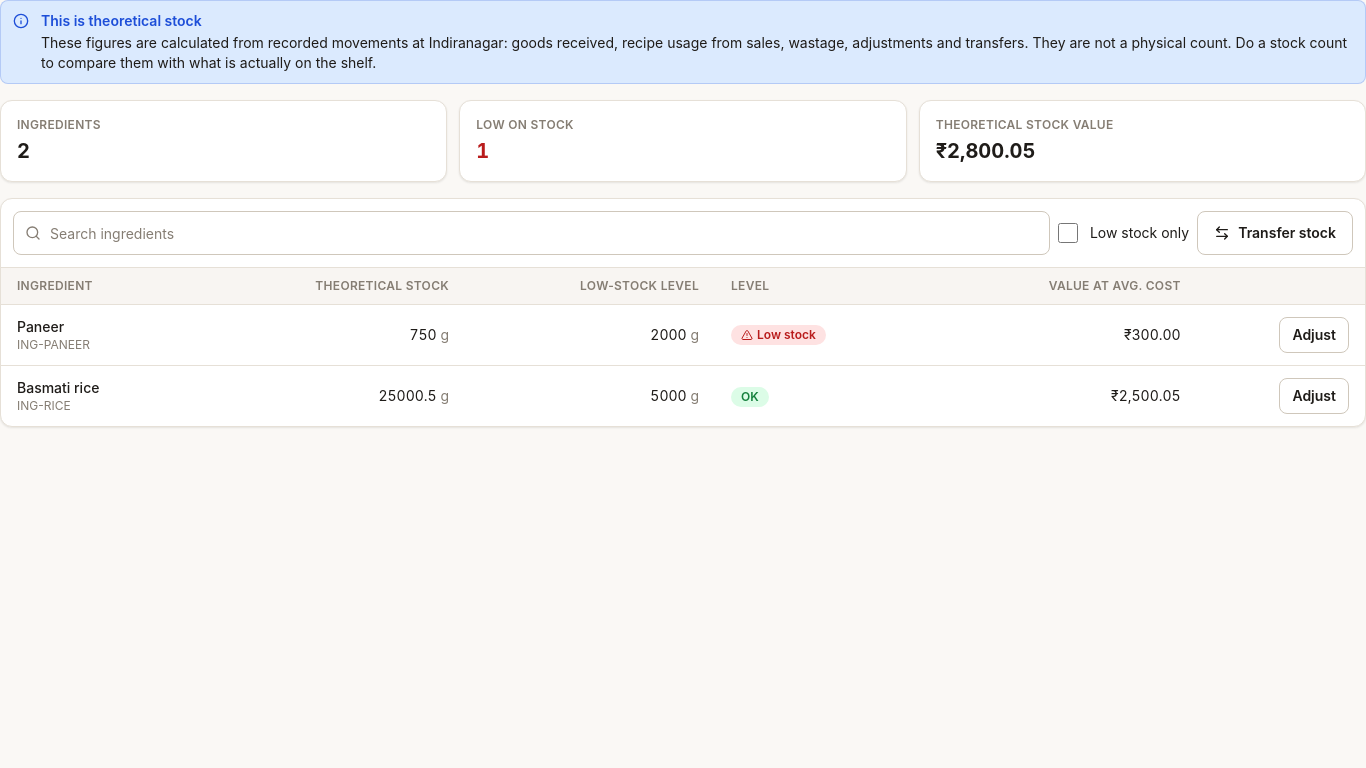
StockTab › offers adjust and transfer with inventory.manage, with units of the ingredient’s dimension only
Check: the text "Paneer" is shown, box [17,318,64,335]
Check: the button "Transfer stock" is shown, box [1197,211,1353,255]
Click the button with aria-label "Adjust Paneer" at (1314, 335), box [1279,317,1349,353]
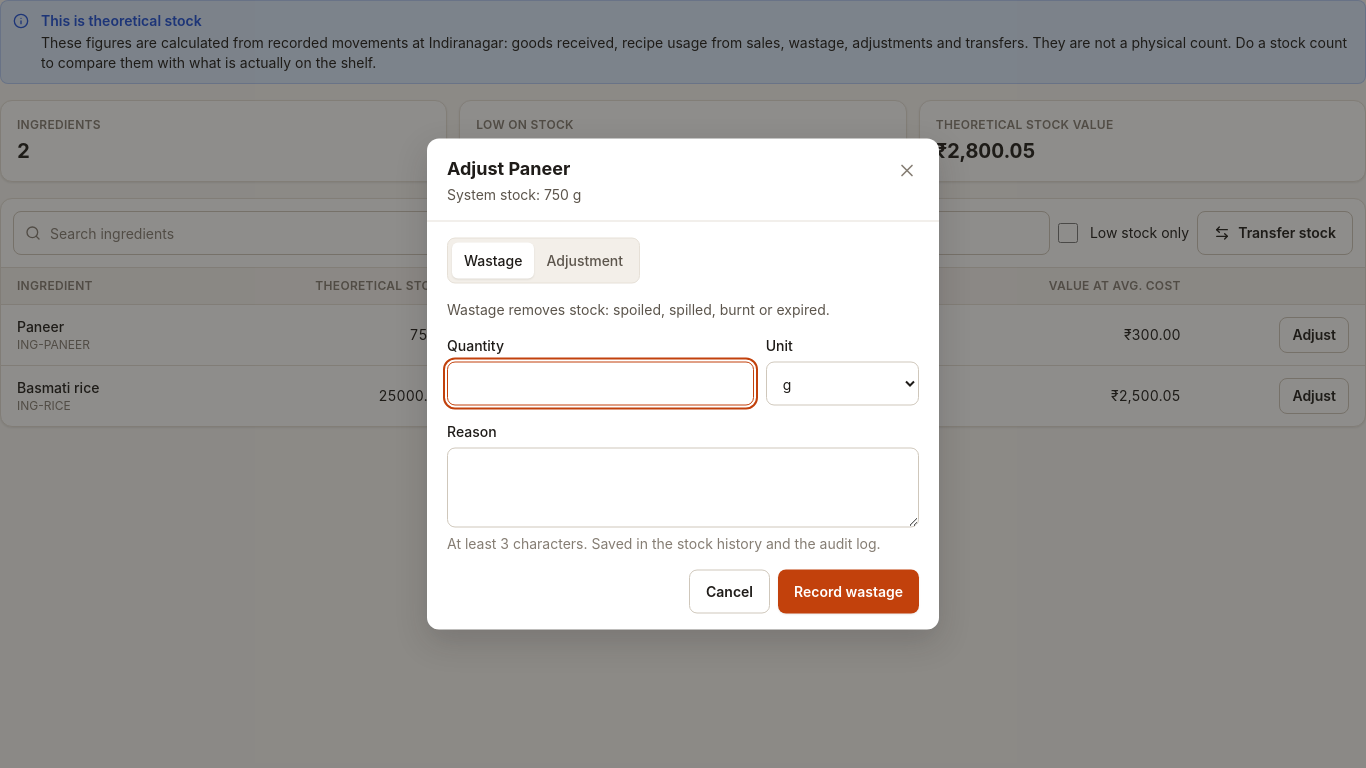
A reason is required: nothing is sent without one.
Type "0.5" into the field labelled "Quantity" at (600, 384), box [447,362,754,406]
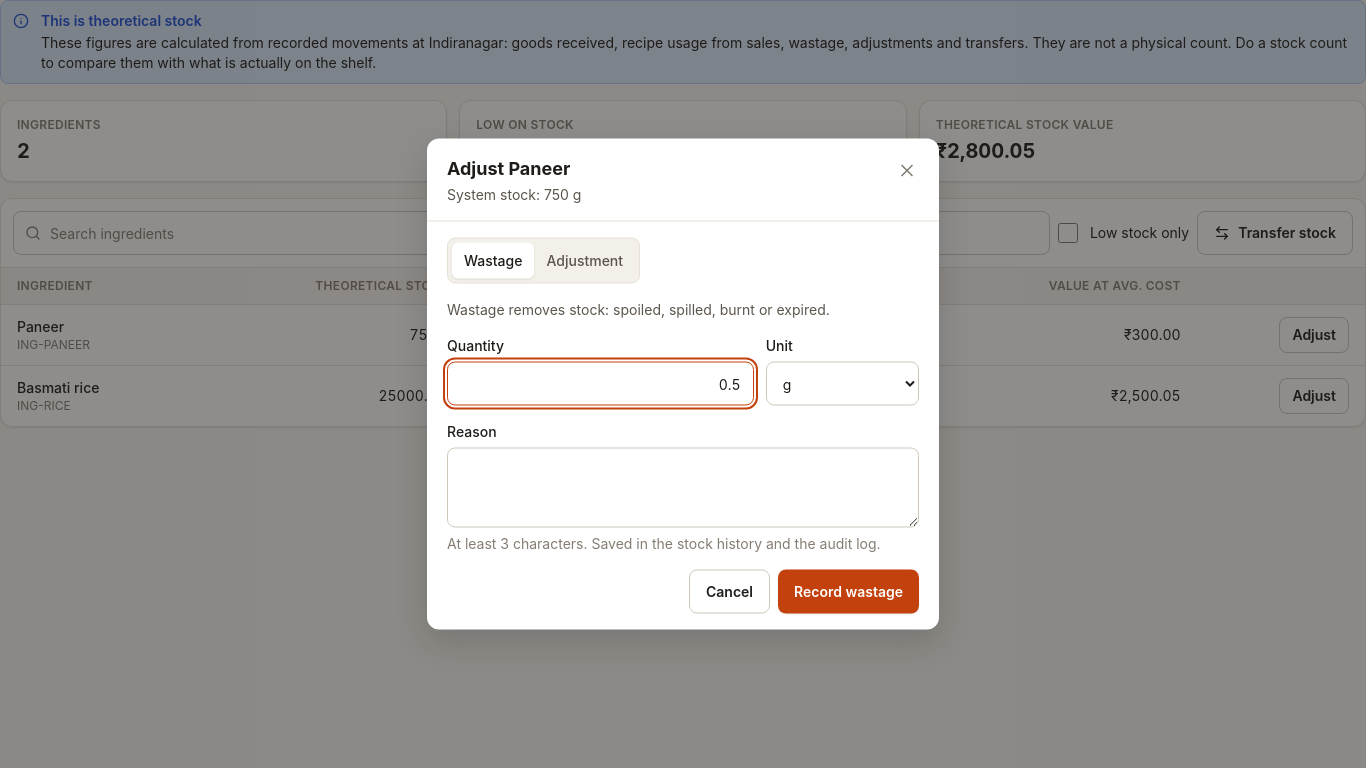
Select "kg" in the dropdown labelled "Unit" at (842, 384), box [766,362,919,406]
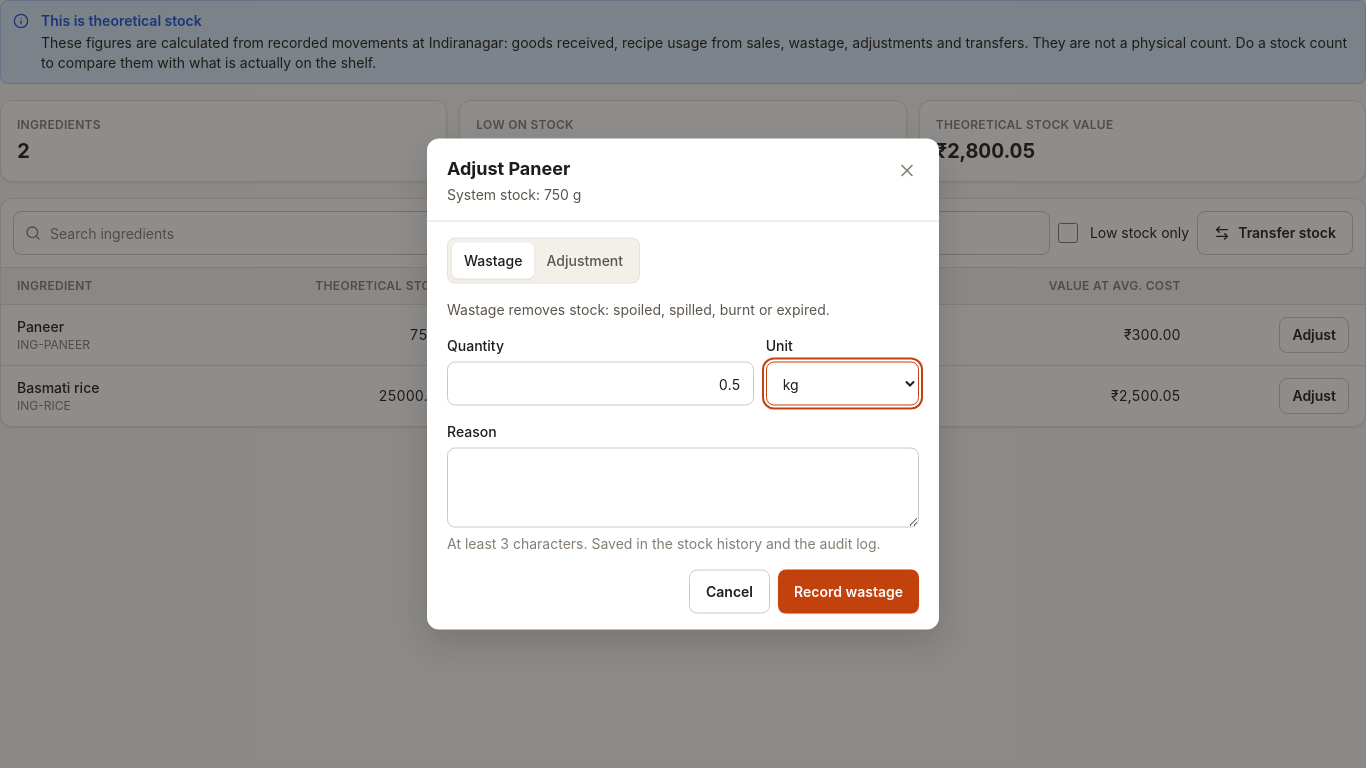
Click the button "Record wastage" at (848, 592), box [778,570,919,614]
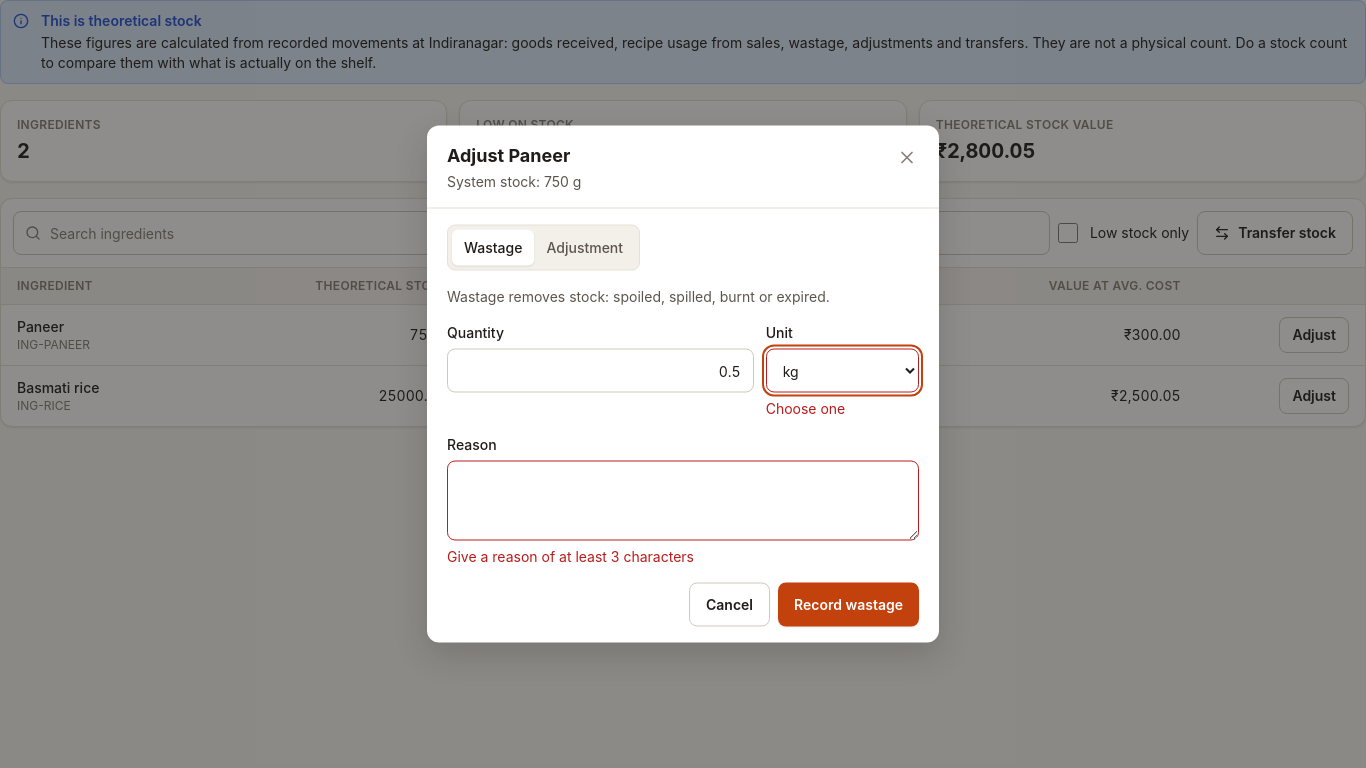
Check: the text "Give a reason of at least 3 characters" is shown, box [447,548,694,564]
